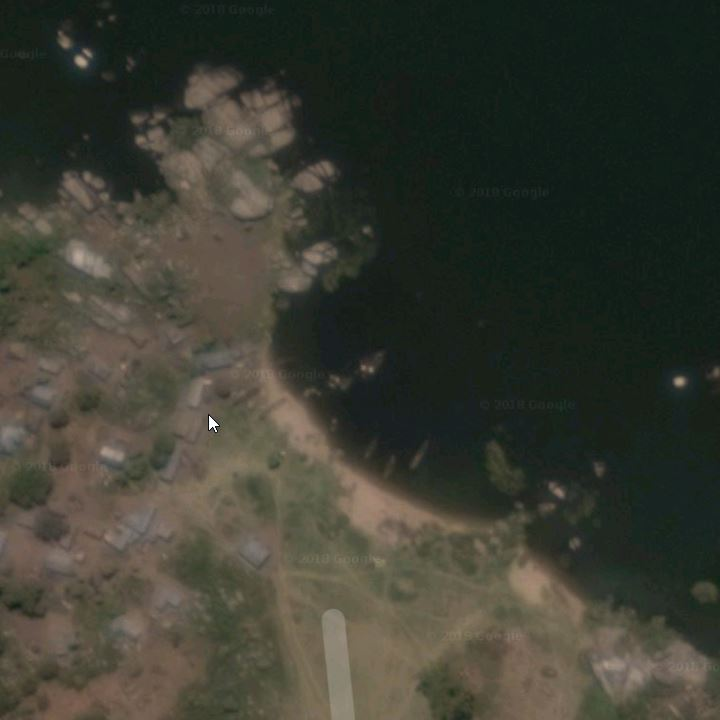boat: (402, 433, 435, 475), (382, 449, 400, 485), (362, 433, 381, 467), (360, 348, 376, 375), (370, 353, 384, 378)
